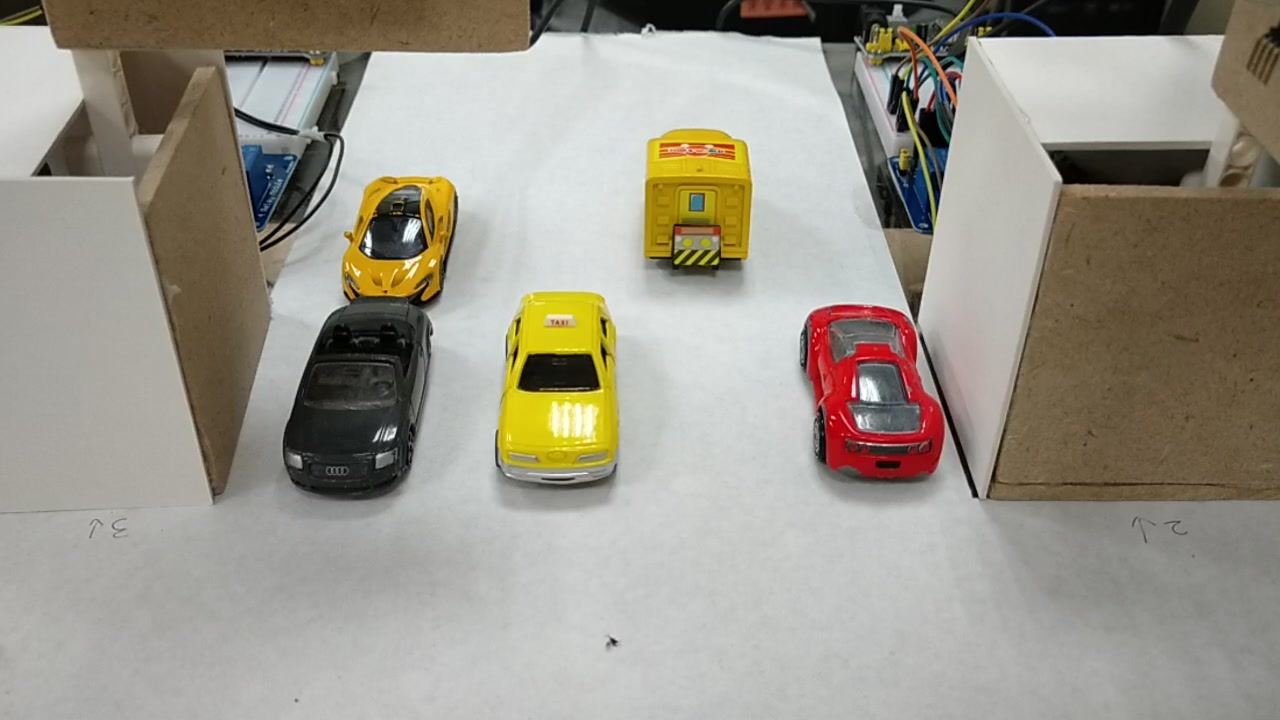car: (283, 298, 436, 485), (500, 286, 614, 479), (809, 303, 933, 478), (346, 167, 450, 301)
